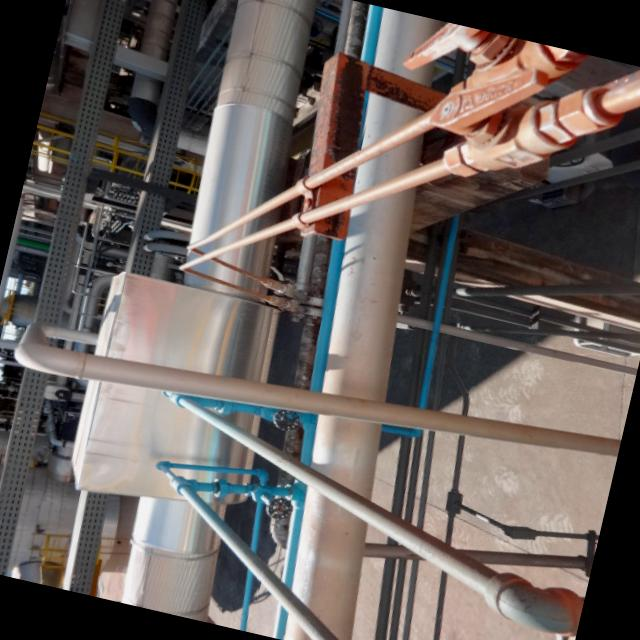gas: (124, 0, 311, 622), (283, 7, 443, 640), (174, 387, 578, 637), (173, 72, 640, 269), (183, 41, 585, 250), (23, 320, 620, 454), (267, 3, 380, 640), (158, 462, 337, 640), (170, 461, 267, 627), (399, 314, 638, 375), (416, 210, 466, 400), (457, 283, 640, 296)
